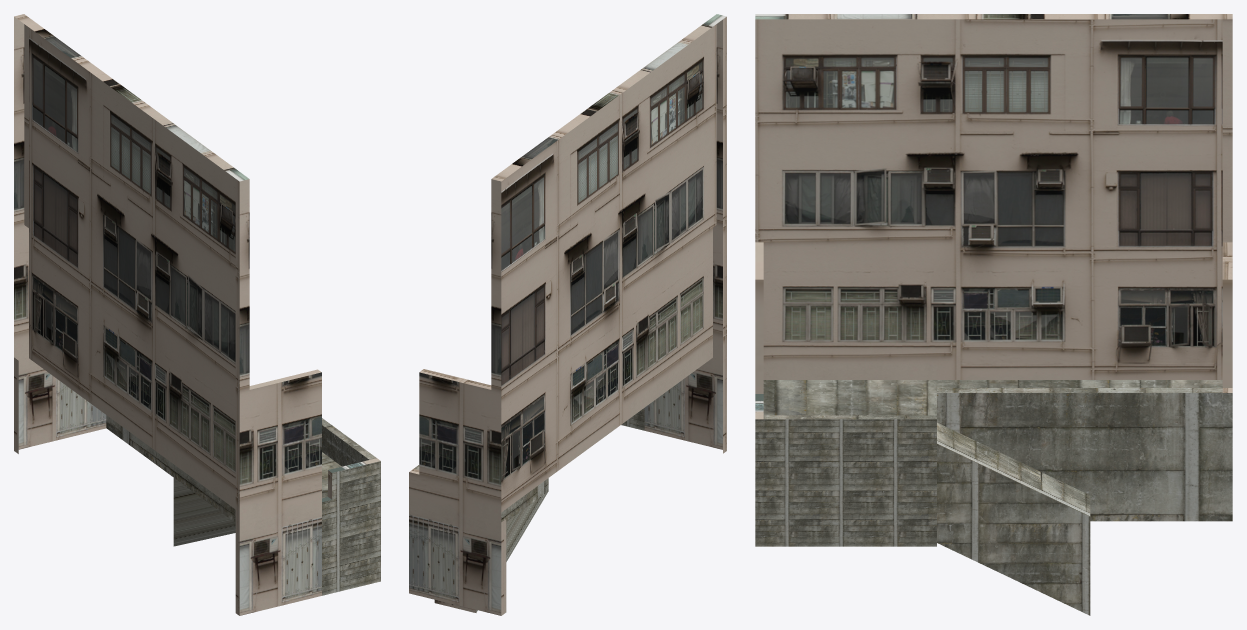
File: BigBuilding.fbx
3 views of the same model, side by side, from view 1: azimuth 30°, elevation 25°; view 2: azimuth 150°, elevation 25°; view 3: azimuth 270°, elevation 25° (orthographic). The views are drawn at different scales.
Parts seen in each view (by area): view 1: Cube.001; view 2: Cube.001; view 3: Cube.001.
Boxes of the visible parts, bbox=[...] form: Cube.001: bbox=[14, 14, 380, 615]; Cube.001: bbox=[409, 14, 726, 615]; Cube.001: bbox=[755, 14, 1232, 615].
Size of the model in its own units: 169 by 576 by 468.
